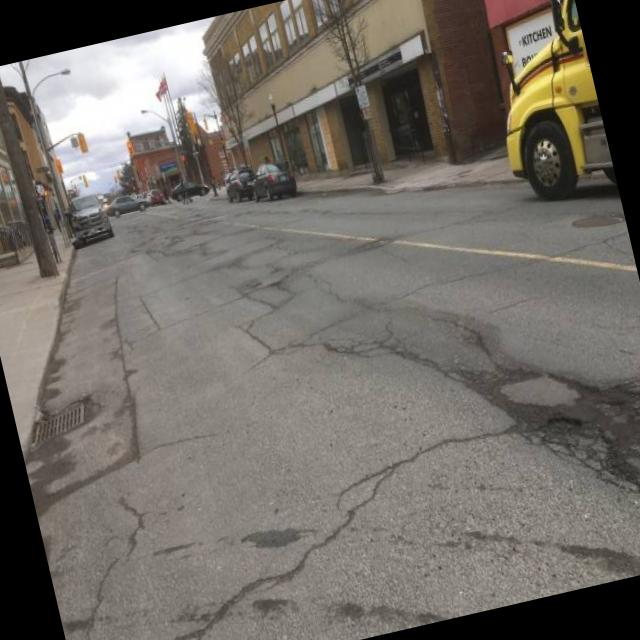Potholes: (439, 290, 640, 606)
